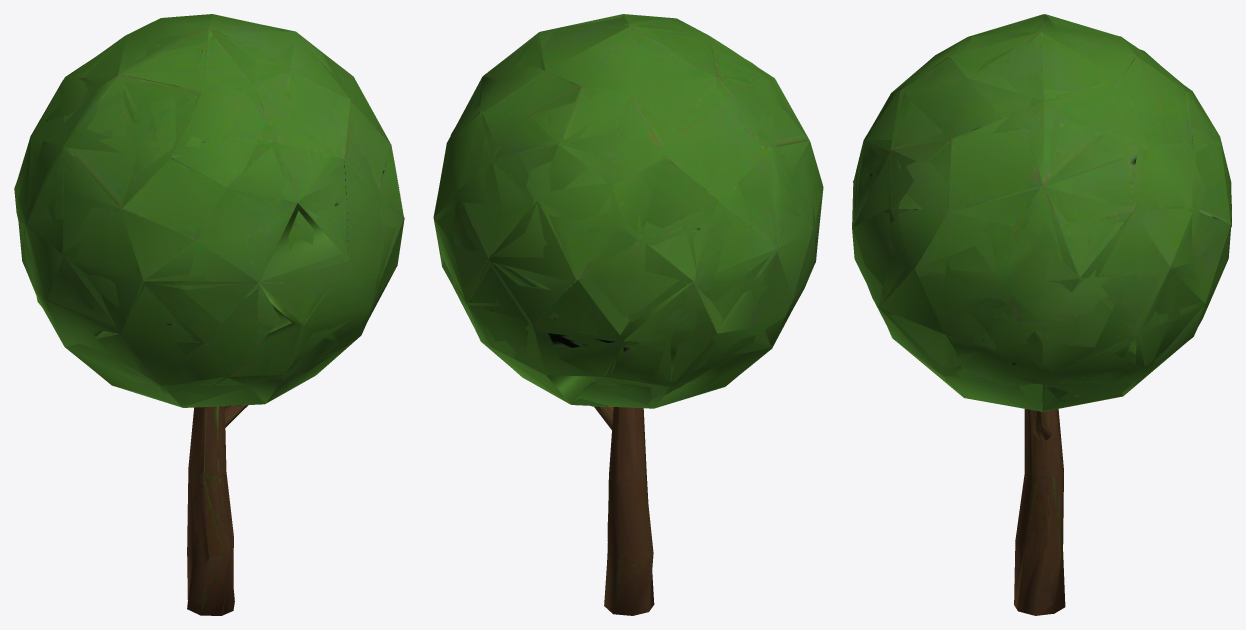
The model's file is tree.glb.
3 views of the same model, side by side, from view 1: azimuth 30°, elevation 25°; view 2: azimuth 150°, elevation 25°; view 3: azimuth 270°, elevation 25° (orthographic).
Parts seen in each view (by area): view 1: geometry_0; view 2: geometry_0; view 3: geometry_0.
Boxes of the visible parts, box(x1,y1,x2,y2) form: geometry_0: box(14, 14, 404, 615); geometry_0: box(433, 14, 823, 615); geometry_0: box(852, 14, 1231, 615).
Size of the model in its own units: 0.5748 by 0.9517 by 0.5713.
Materials: 1 (1 with a texture image).
